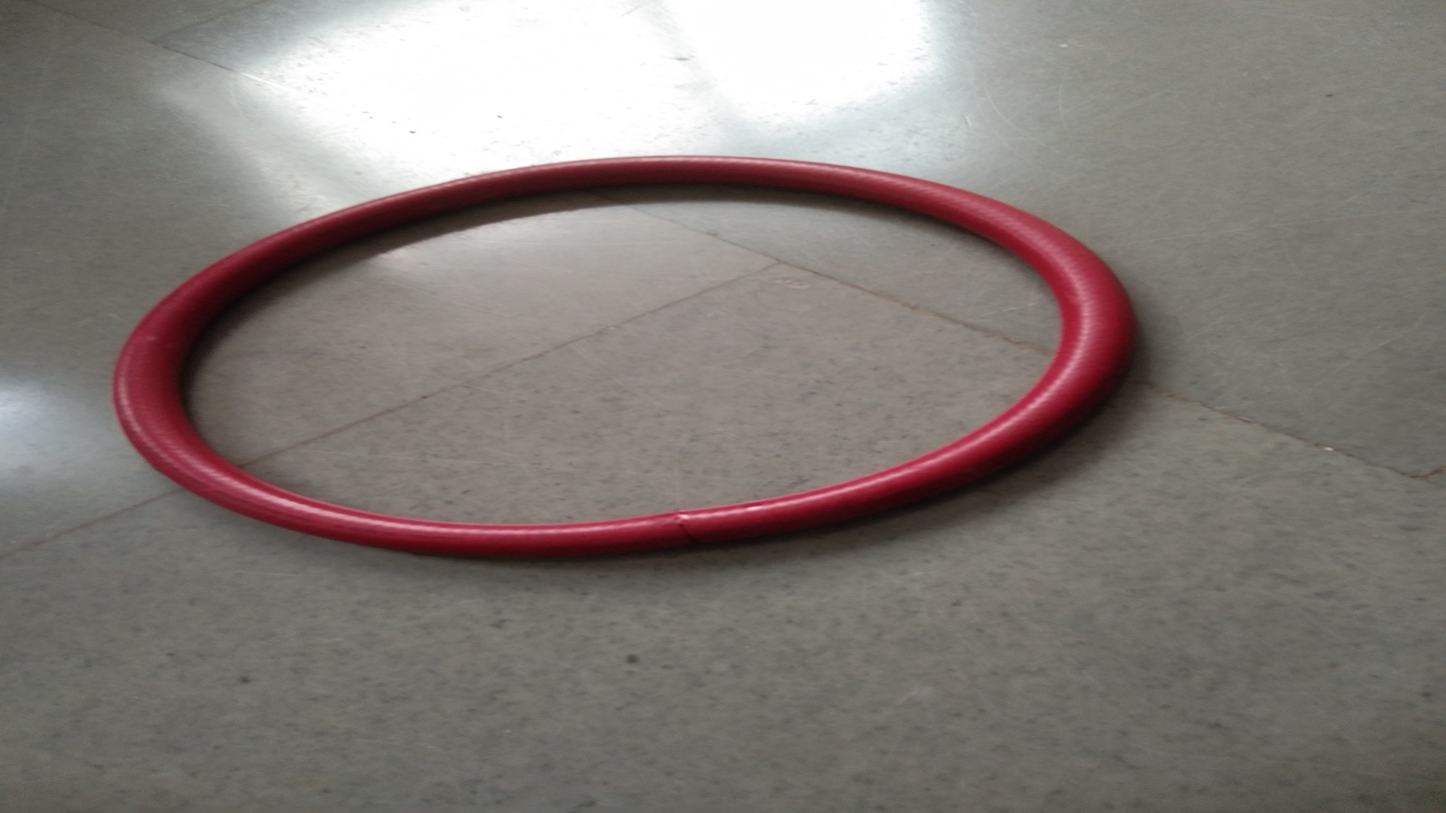Red ring: (109, 155, 1135, 553)
